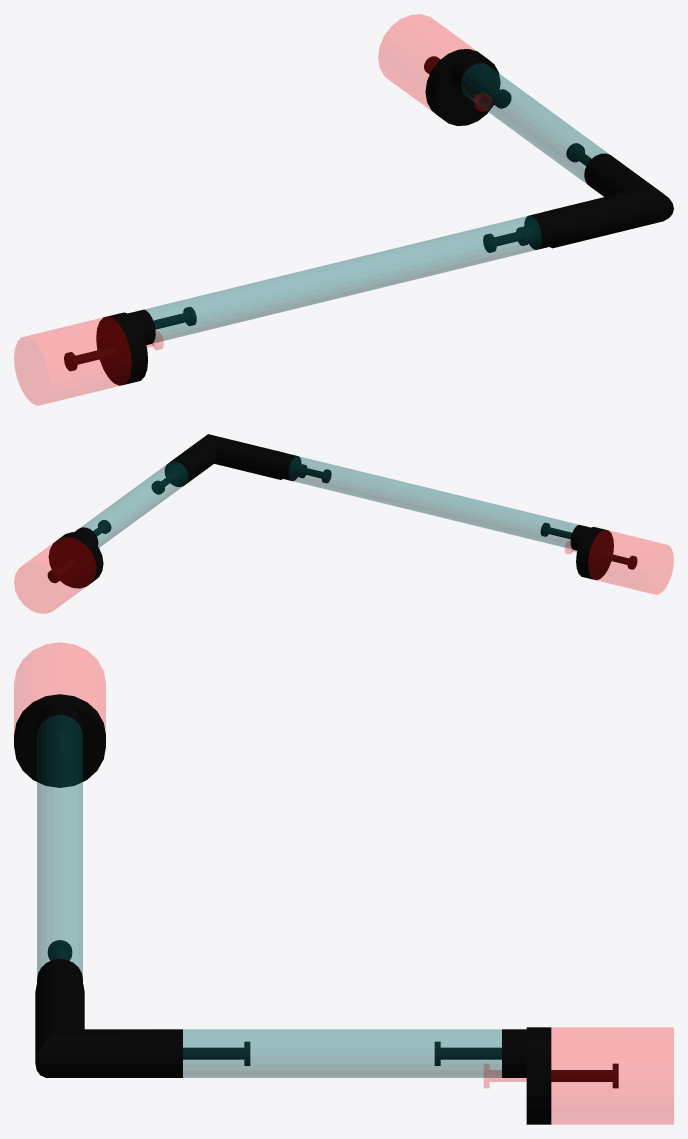
The model's file is HorizontalLshapedFittingTreeResizeTwice.gltf.
The picture shows the model from 3 angles, top to bottom: view 1: azimuth 30°, elevation 25°; view 2: azimuth 150°, elevation 25°; view 3: azimuth 270°, elevation 25°; orthographic projection. The views are drawn at different scales.
Parts seen in each view (by area): view 1: 41b30edd-2c4c-4216-9901-8ecb43dffbf6_mesh, 66b85d3d-87b2-4c94-9bc3-12192df622c1_mesh, 0a6d95dc-d301-441b-8a52-0b5d2b8b7929_mesh, 013db08b-3bee-49a3-8df3-eaa22ed5e120_mesh, f055cbd1-a821-4533-8c8c-3d3cd053ffe9_mesh, dfeedece-65a3-46ad-986d-7c1c50d2ad69_mesh, 25462782-0f3f-4d21-a3c8-a77a33e525d5_mesh, 3fa783ab-077d-4a26-9300-676af3c2e033_mesh; view 2: 41b30edd-2c4c-4216-9901-8ecb43dffbf6_mesh, dfeedece-65a3-46ad-986d-7c1c50d2ad69_mesh, 66b85d3d-87b2-4c94-9bc3-12192df622c1_mesh, 0a6d95dc-d301-441b-8a52-0b5d2b8b7929_mesh, 013db08b-3bee-49a3-8df3-eaa22ed5e120_mesh, f055cbd1-a821-4533-8c8c-3d3cd053ffe9_mesh, 25462782-0f3f-4d21-a3c8-a77a33e525d5_mesh, 3fa783ab-077d-4a26-9300-676af3c2e033_mesh; view 3: 013db08b-3bee-49a3-8df3-eaa22ed5e120_mesh, dfeedece-65a3-46ad-986d-7c1c50d2ad69_mesh, 41b30edd-2c4c-4216-9901-8ecb43dffbf6_mesh, 0a6d95dc-d301-441b-8a52-0b5d2b8b7929_mesh, 25462782-0f3f-4d21-a3c8-a77a33e525d5_mesh, f055cbd1-a821-4533-8c8c-3d3cd053ffe9_mesh, 66b85d3d-87b2-4c94-9bc3-12192df622c1_mesh, 3fa783ab-077d-4a26-9300-676af3c2e033_mesh.
Part boxes in pixels (<box>): 41b30edd-2c4c-4216-9901-8ecb43dffbf6_mesh: <box>144,215,541,343</box>; 66b85d3d-87b2-4c94-9bc3-12192df622c1_mesh: <box>14,316,163,405</box>; 0a6d95dc-d301-441b-8a52-0b5d2b8b7929_mesh: <box>516,143,673,245</box>; 013db08b-3bee-49a3-8df3-eaa22ed5e120_mesh: <box>461,63,608,183</box>; f055cbd1-a821-4533-8c8c-3d3cd053ffe9_mesh: <box>424,49,511,125</box>; dfeedece-65a3-46ad-986d-7c1c50d2ad69_mesh: <box>378,14,491,111</box>; 25462782-0f3f-4d21-a3c8-a77a33e525d5_mesh: <box>64,306,196,385</box>; 3fa783ab-077d-4a26-9300-676af3c2e033_mesh: <box>483,207,575,252</box>; 41b30edd-2c4c-4216-9901-8ecb43dffbf6_mesh: <box>289,456,578,549</box>; dfeedece-65a3-46ad-986d-7c1c50d2ad69_mesh: <box>14,537,96,613</box>; 66b85d3d-87b2-4c94-9bc3-12192df622c1_mesh: <box>565,530,673,594</box>; 0a6d95dc-d301-441b-8a52-0b5d2b8b7929_mesh: <box>151,434,307,494</box>; 013db08b-3bee-49a3-8df3-eaa22ed5e120_mesh: <box>80,461,188,547</box>; f055cbd1-a821-4533-8c8c-3d3cd053ffe9_mesh: <box>47,520,111,588</box>; 25462782-0f3f-4d21-a3c8-a77a33e525d5_mesh: <box>540,522,637,580</box>; 3fa783ab-077d-4a26-9300-676af3c2e033_mesh: <box>264,450,331,483</box>; 013db08b-3bee-49a3-8df3-eaa22ed5e120_mesh: <box>183,1029,501,1077</box>; dfeedece-65a3-46ad-986d-7c1c50d2ad69_mesh: <box>484,1027,673,1124</box>; 41b30edd-2c4c-4216-9901-8ecb43dffbf6_mesh: <box>37,715,82,976</box>; 0a6d95dc-d301-441b-8a52-0b5d2b8b7929_mesh: <box>35,979,250,1077</box>; 25462782-0f3f-4d21-a3c8-a77a33e525d5_mesh: <box>14,694,105,787</box>; f055cbd1-a821-4533-8c8c-3d3cd053ffe9_mesh: <box>434,1027,618,1124</box>; 66b85d3d-87b2-4c94-9bc3-12192df622c1_mesh: <box>14,642,105,732</box>; 3fa783ab-077d-4a26-9300-676af3c2e033_mesh: <box>35,940,84,1001</box>.
Bounding box in the file's own units: 1.58 × 0.16 × 1.08.
